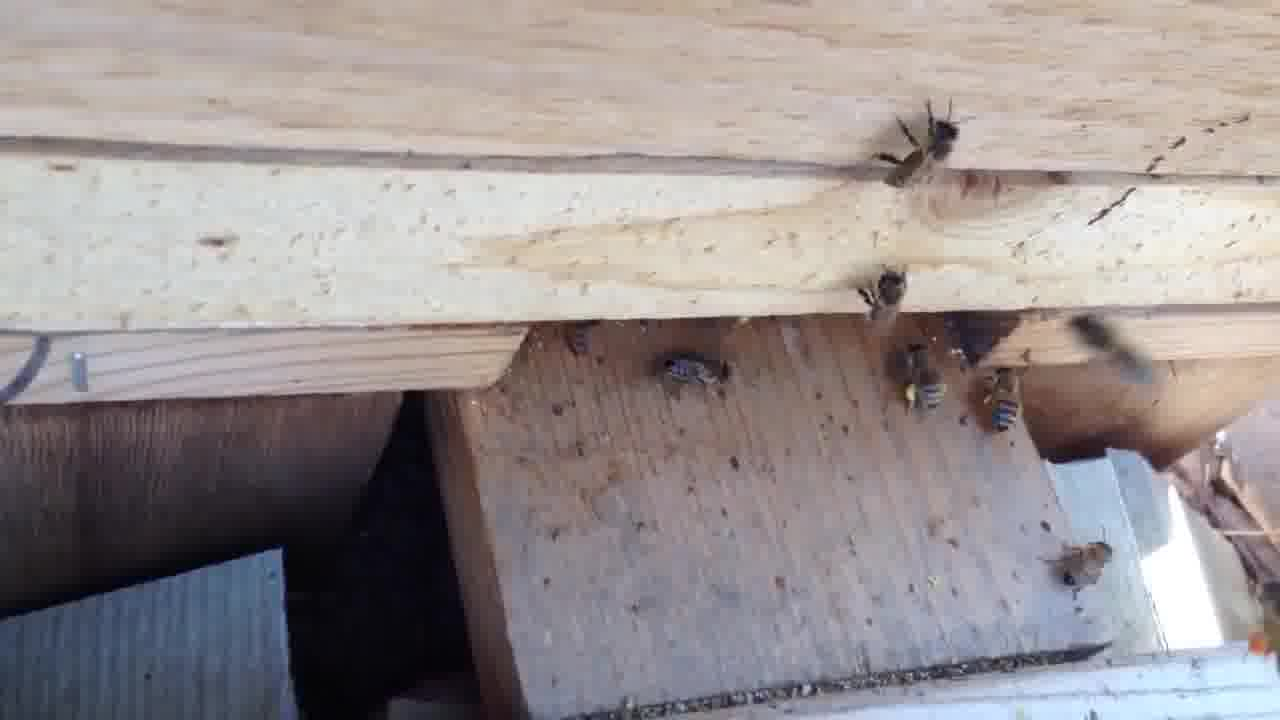pollen: (899, 339, 951, 422)
